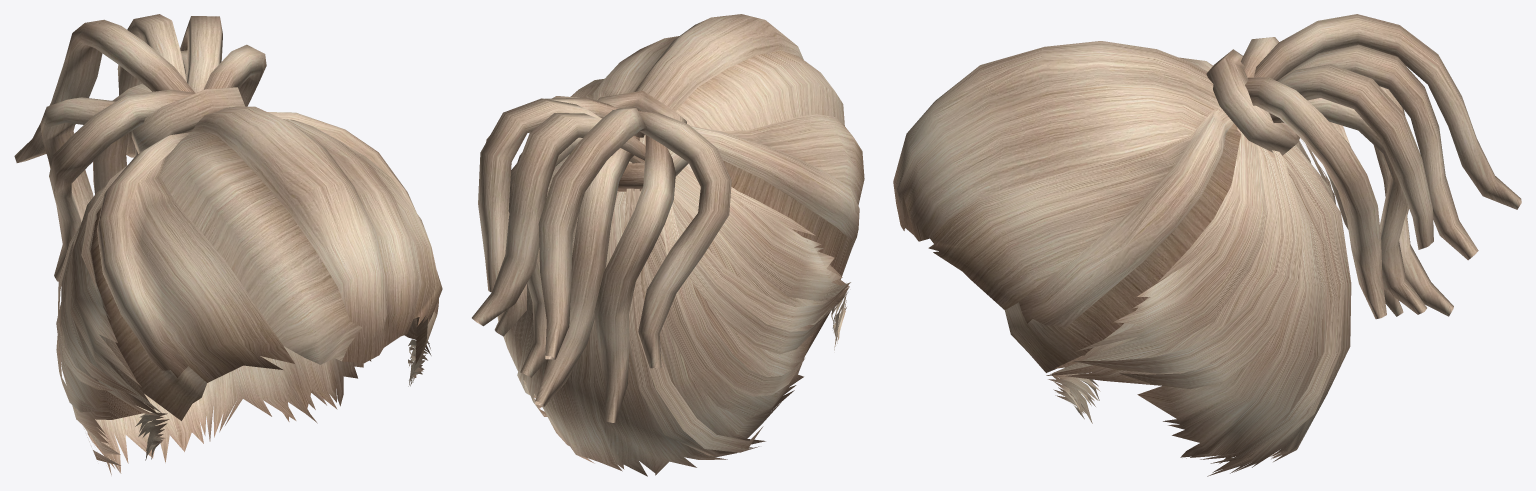
File: womanhair3-transformed.glb
The picture shows the model from 3 angles, left to right: view 1: azimuth 30°, elevation 25°; view 2: azimuth 150°, elevation 25°; view 3: azimuth 270°, elevation 25°; orthographic projection. The views are drawn at different scales.
Parts seen in each view (by area): view 1: 1; view 2: 1; view 3: 1.
Boxes of the visible parts, x1,y1,x2,y2 form: 1: (14,14,442,475); 1: (472,14,864,476); 1: (893,14,1521,476).
Bounding box in the file's own units: 0.3813 × 0.4707 × 0.6366.
Materials: 1 (1 with a texture image).
